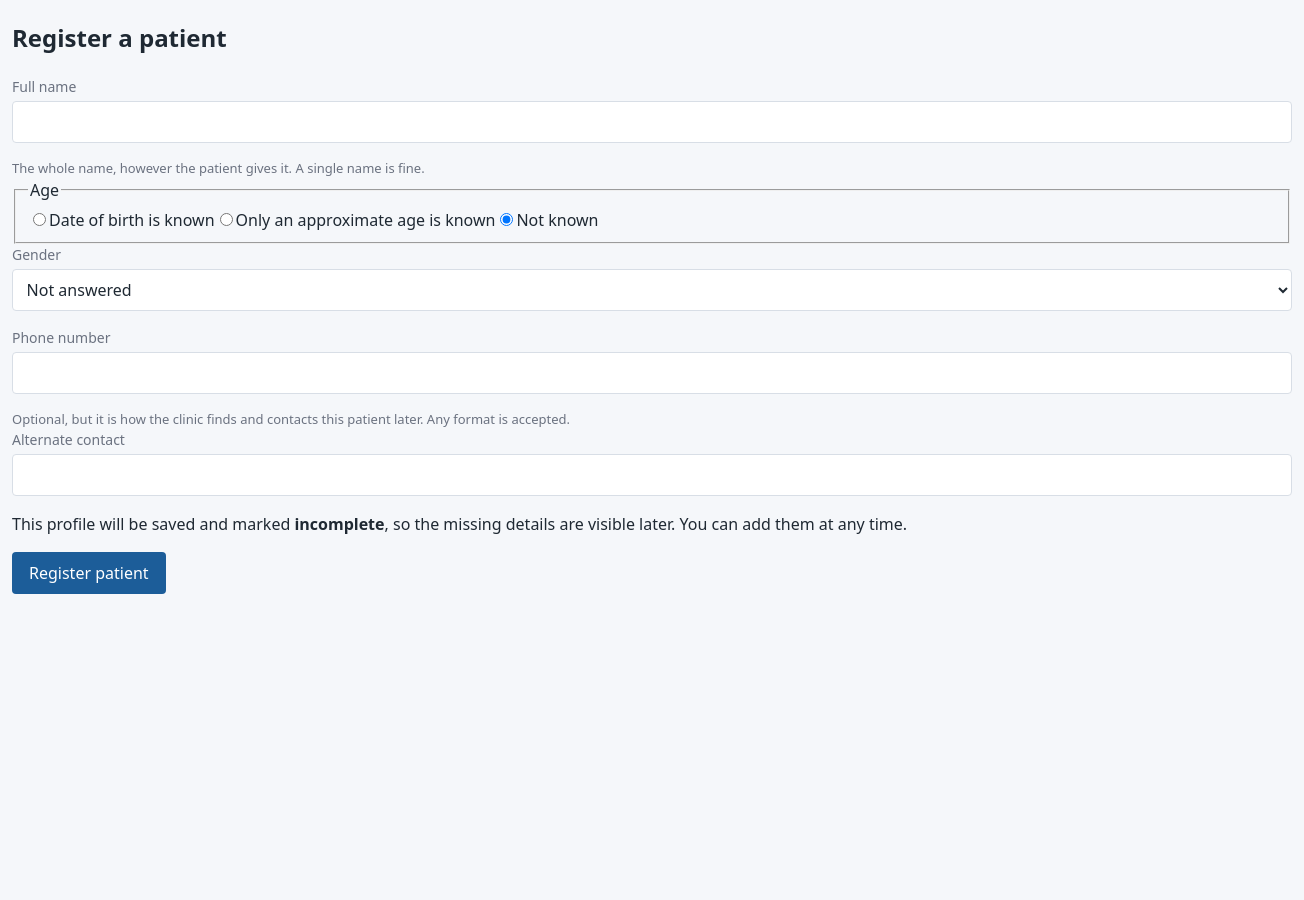
Test: PatientForm (F-5) › renders a servers field errors against the right inputs
Type "Ravi Kumar" into the field labelled "Full name".
click(652, 122); type("Ravi Kumar")  # box [12,101,1292,143]
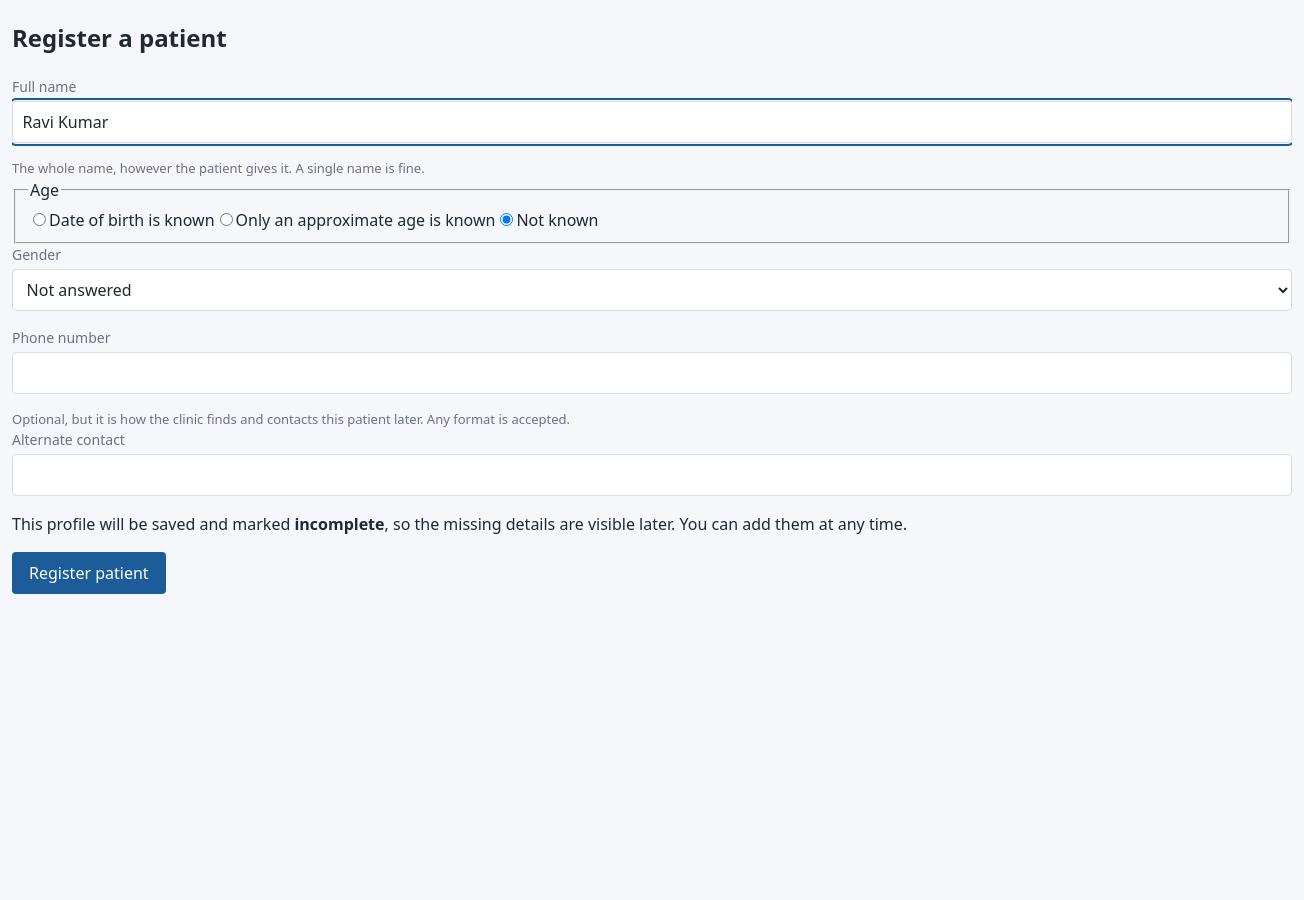
Click the radio button labelled "Date of birth is known".
click(40, 219)  # box [33,213,46,226]
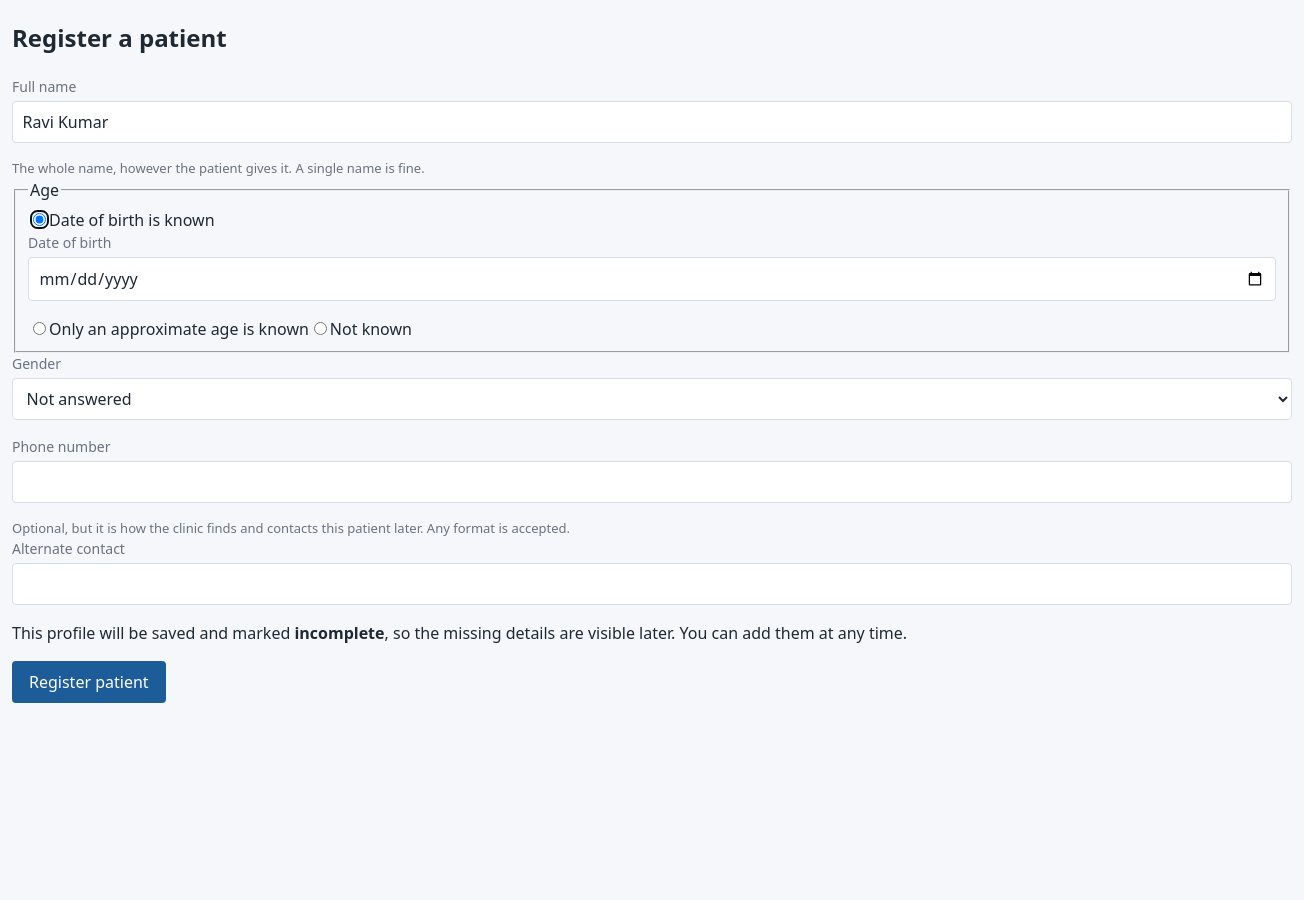
Type "2030-01-01" into the date field labelled "Date of birth".
click(652, 279); type("2030-01-01")  # box [28,257,1276,301]
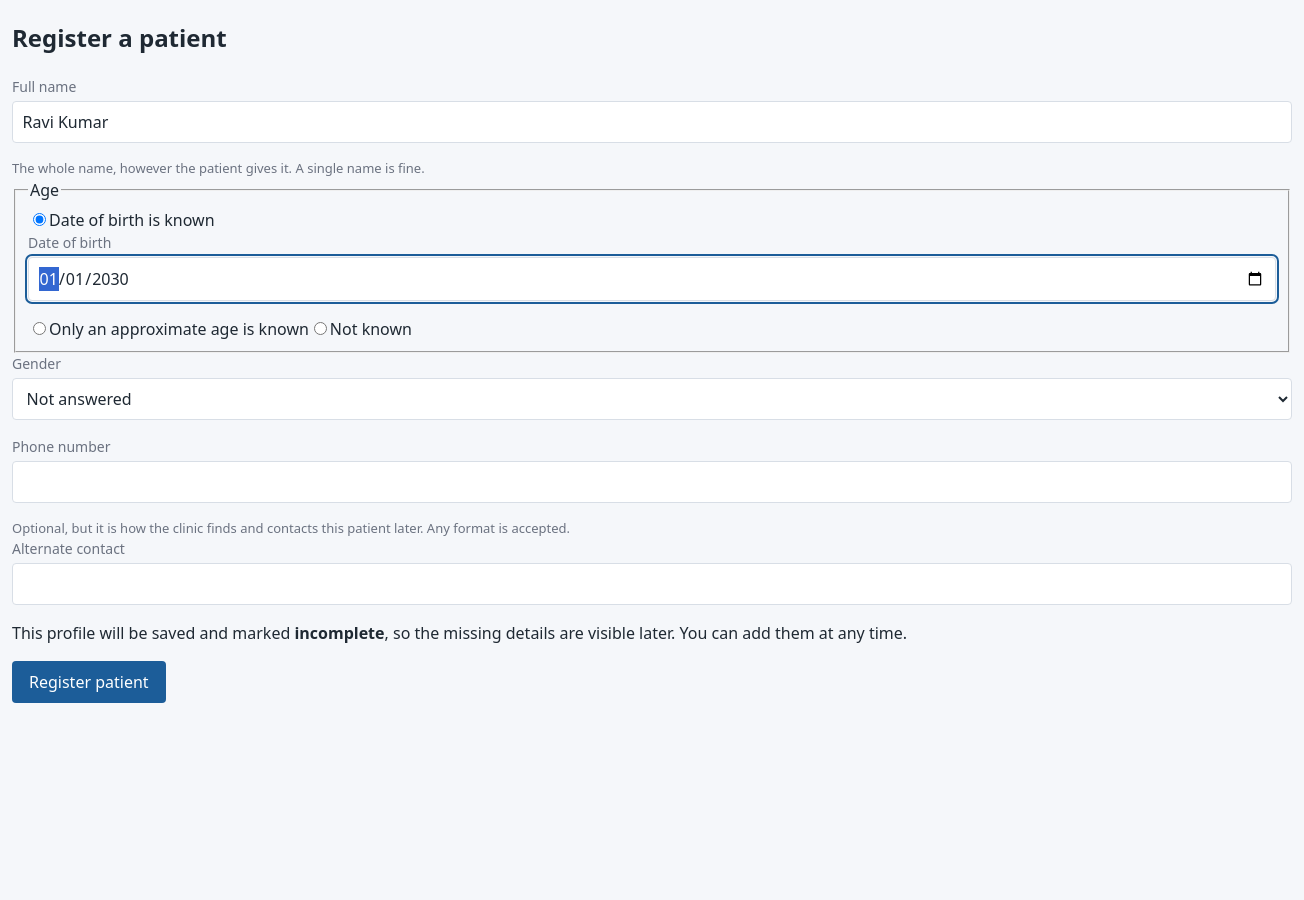
Click the button "Register patient".
click(89, 682)  # box [12,661,166,703]
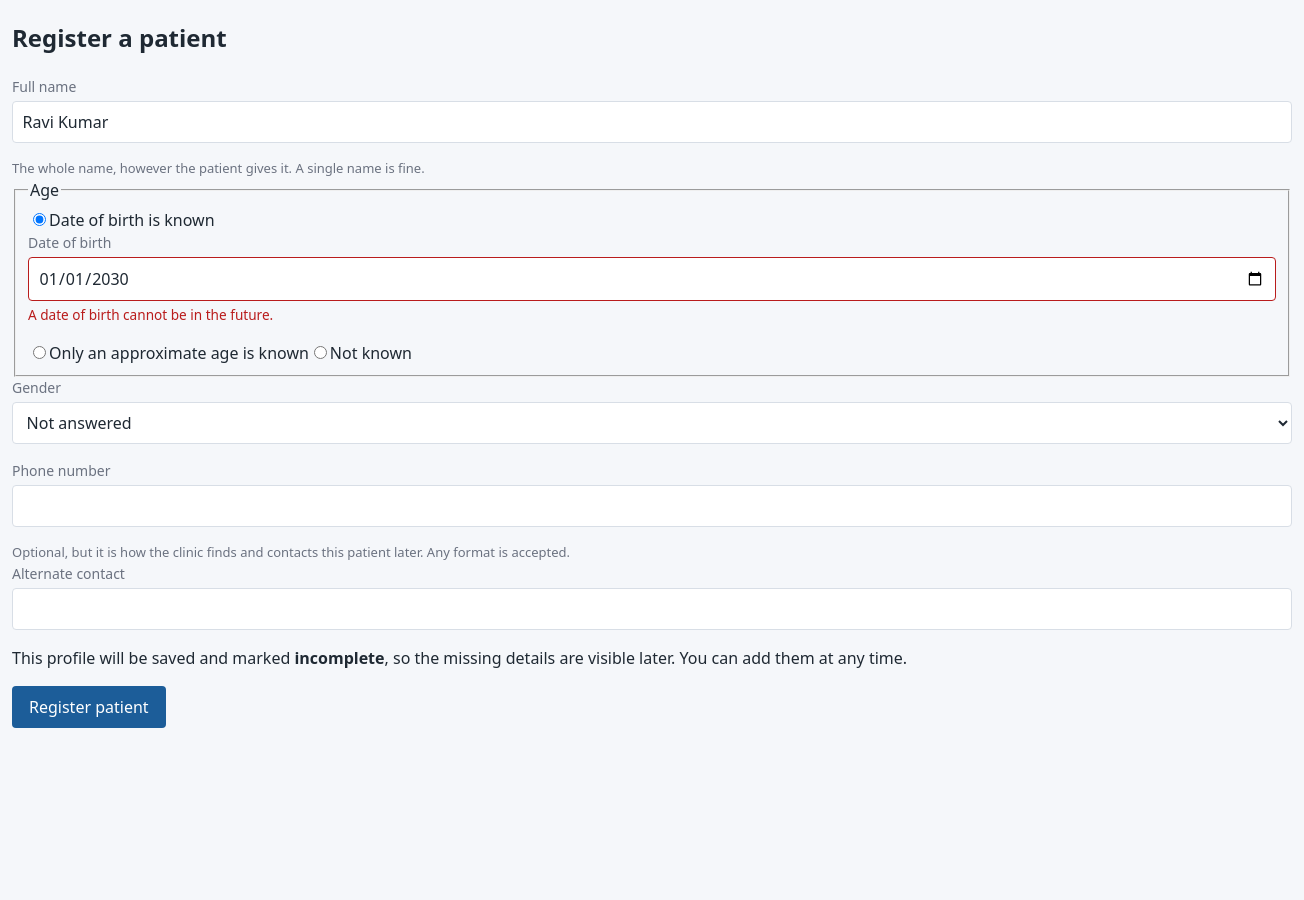
Result: the text "A date of birth cannot be in the future." is shown at [28,305,273,324]
